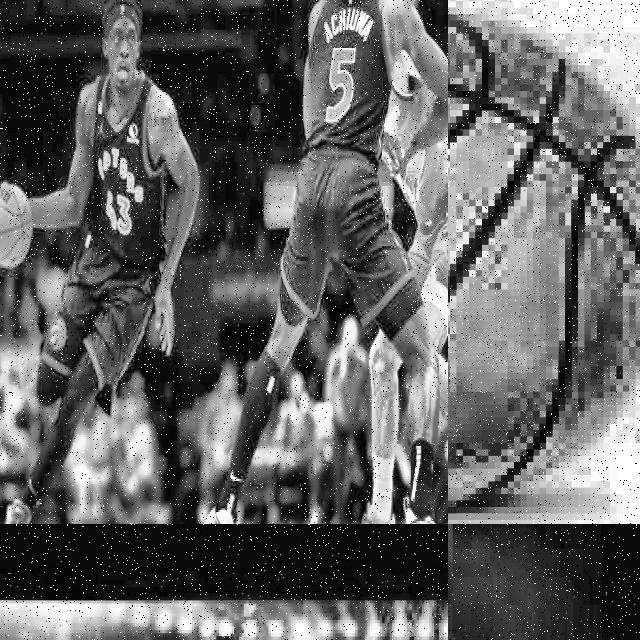Basketball: (448, 14, 640, 510), (0, 182, 32, 266)
